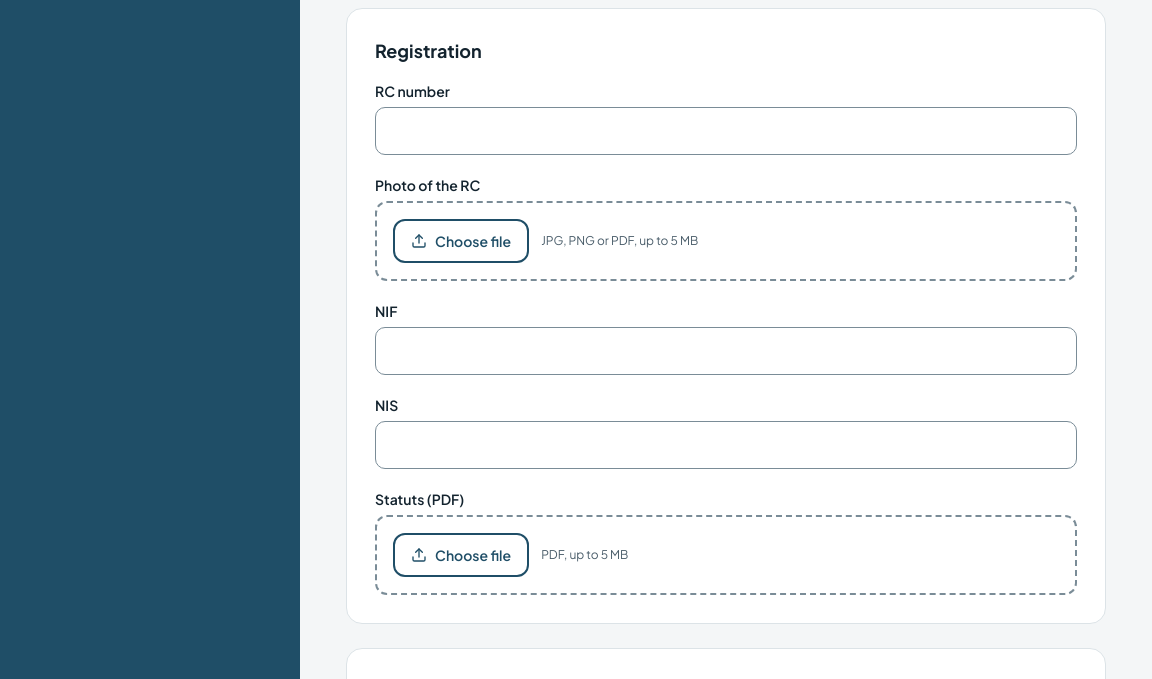
Test: field-level validation (fixes 869e4xg74) › invalid format is reported immediately on blur; fixing it clears the error
(page scrolled)
Step 1. Type "!" into the field with id "f-nif" → (726, 350), box x1=375 y1=326 x2=1077 y2=374
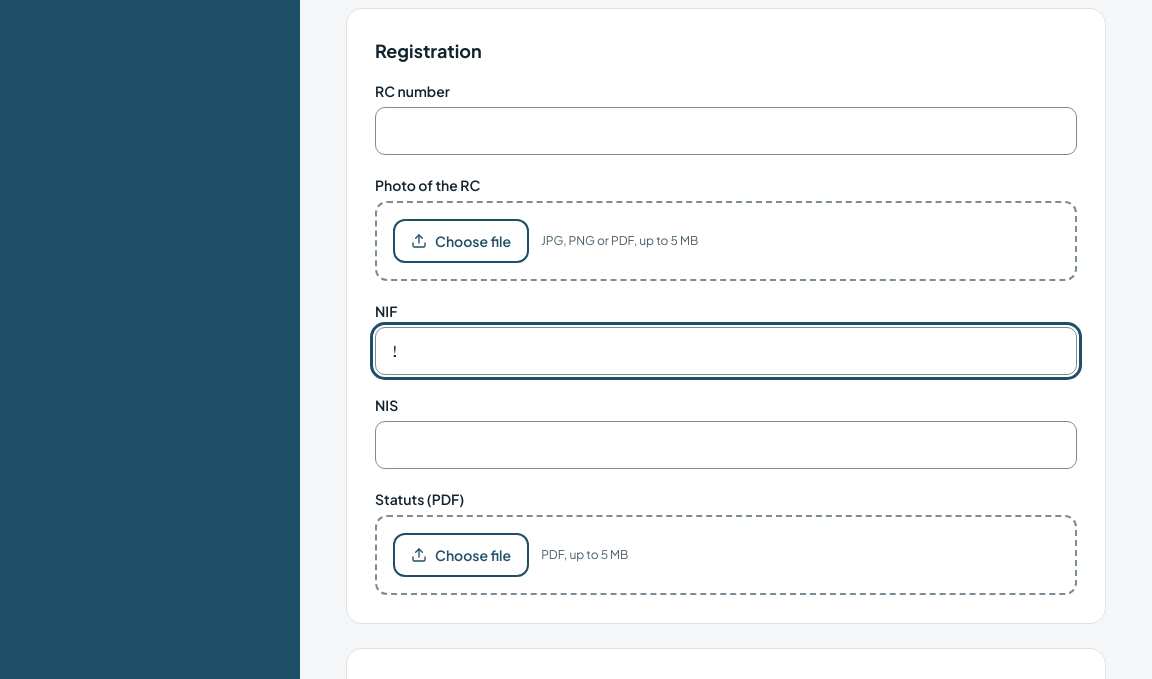
Step 2. Press Tab
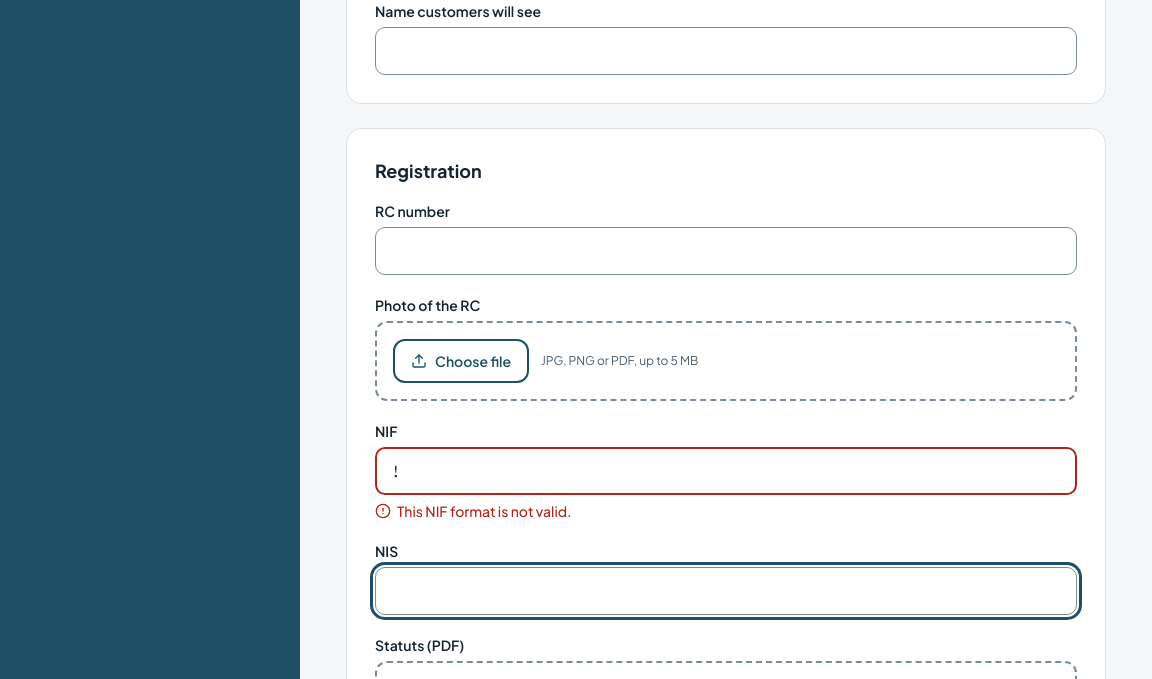
expect the text "This NIF format is not valid." is shown: met, box x1=397 y1=500 x2=572 y2=520
Step 3. Clear the field with id "f-nif" → (726, 470), box x1=375 y1=446 x2=1077 y2=494
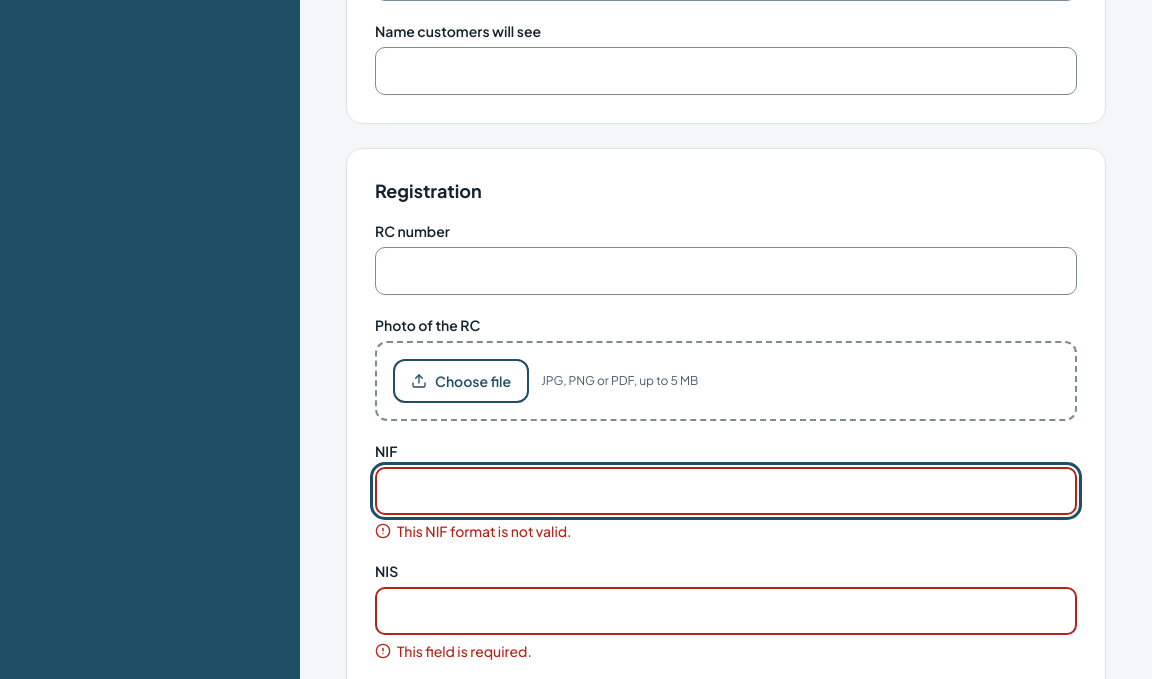
Step 4. Type "NIF-FRESH-001" into the field with id "f-nif" → (726, 490), box x1=375 y1=466 x2=1077 y2=514
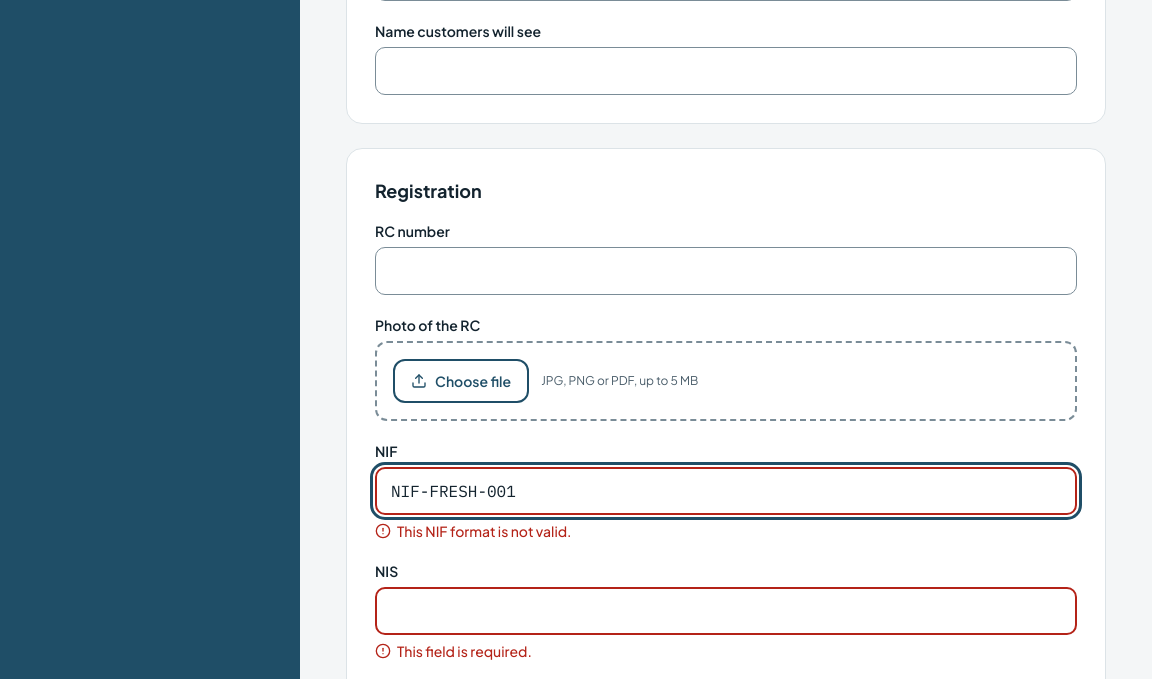
Step 5. Press Tab
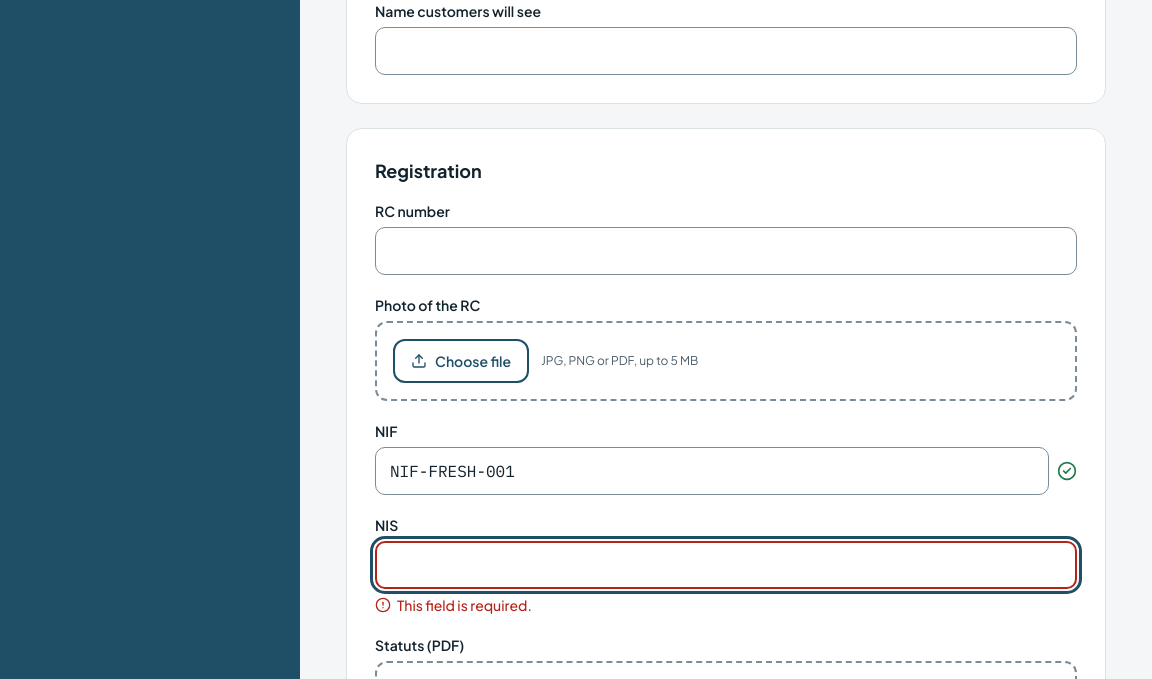
expect the text "This NIF format is not valid." is gone: met
